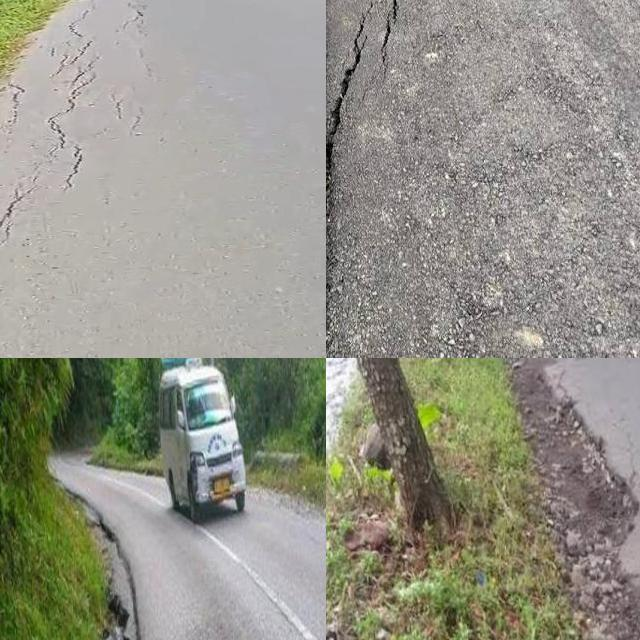Pinggir: (507, 358, 640, 640), (326, 0, 429, 358), (72, 485, 171, 640)
